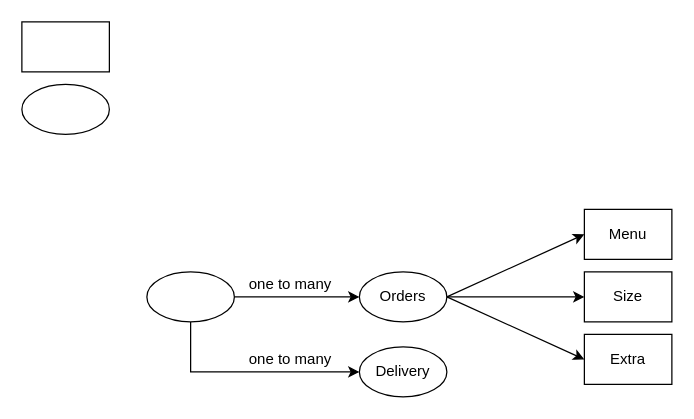
The diagram is 694 pixels wide and 419 high, and some of its shapes have lost their labels. Each missing label, with the centre of its shape:
"Classes" goes at point 65,108.
"Customers" goes at point 190,296.
"Files" goes at point 65,46.
